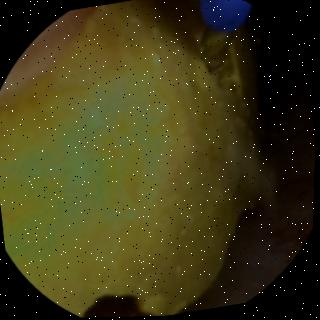fiber: (199, 0, 250, 32)
stone: (0, 0, 269, 316)
